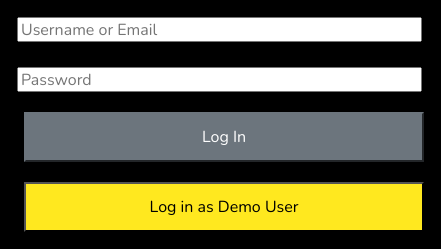
Scenario: LoginFormModal › enables Log In once both fields are valid
Type "Demo-User" into the field labelled "Username or Email".
click(220, 30); type("Demo-User")  # box [17, 17, 422, 42]
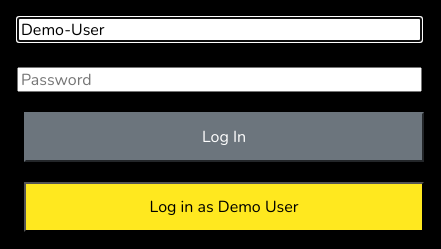
Type "password" into the password field labelled "Password".
click(220, 80); type("password")  # box [17, 67, 422, 92]
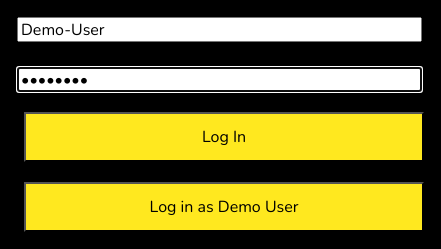
Check: the button "Log In" is enabled, box [24, 112, 424, 162]
